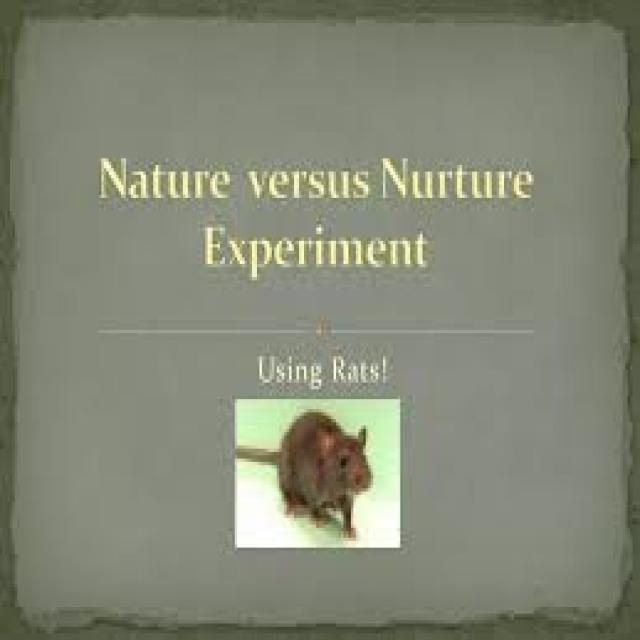Rat: (234, 394, 396, 526)
